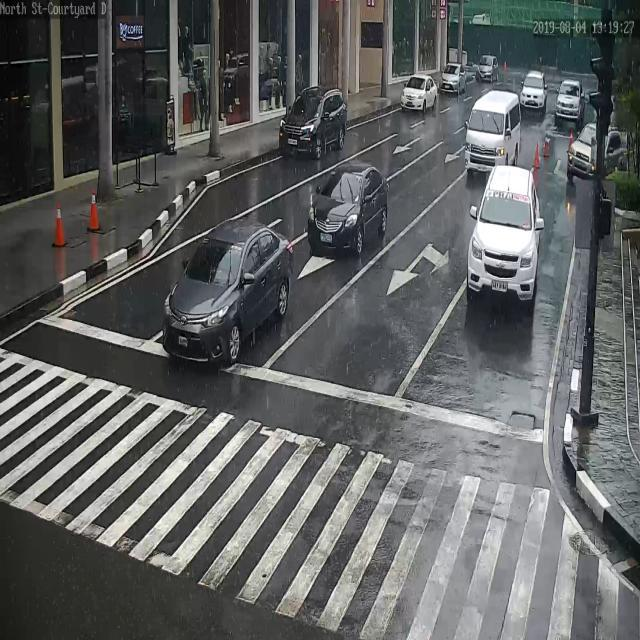car: (163, 215, 293, 362), (467, 163, 541, 304), (309, 164, 389, 256), (278, 86, 349, 159), (569, 124, 624, 180), (399, 73, 439, 114), (555, 78, 584, 125), (521, 70, 548, 111), (441, 63, 472, 96), (476, 53, 502, 81)
van: (464, 90, 521, 171)
